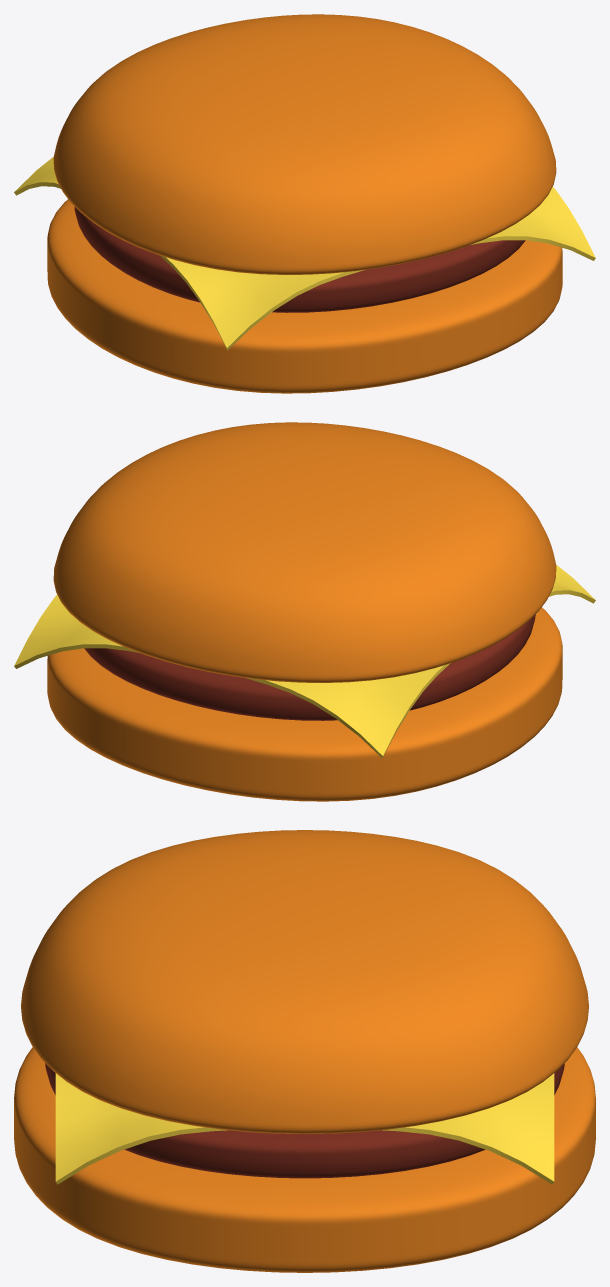
File: burger.glb
3 views of the same model, one above another, from view 1: azimuth 30°, elevation 25°; view 2: azimuth 150°, elevation 25°; view 3: azimuth 270°, elevation 25° (orthographic). The views are drawn at different scales.
Visible parts, largest first — view 1: Cube.002, Cube, Cube.001, Plane; view 2: Cube.002, Cube, Cube.001, Plane; view 3: Cube.002, Cube, Plane, Cube.001.
Part boxes in pixels (box(x1,y1,x2,y2)): Cube.002: box(53, 14, 556, 274); Cube: box(47, 199, 562, 393); Cube.001: box(74, 206, 525, 312); Plane: box(14, 156, 595, 350); Cube.002: box(53, 422, 556, 682); Cube: box(47, 607, 562, 801); Cube.001: box(84, 614, 535, 720); Plane: box(14, 564, 595, 758); Cube.002: box(21, 830, 588, 1134); Cube: box(14, 1047, 595, 1272); Plane: box(55, 1073, 554, 1184); Cube.001: box(45, 1063, 564, 1178).
Size of the model in its own units: 9.49 by 4.68 by 9.3.
